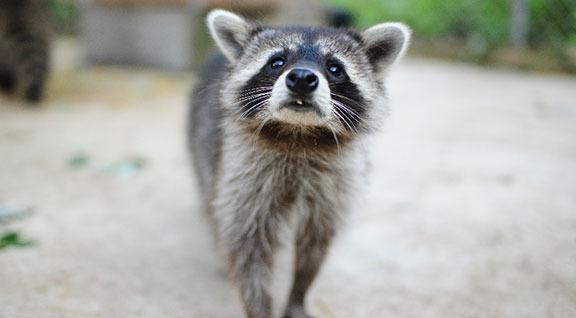raccoon: (144, 1, 422, 317)
